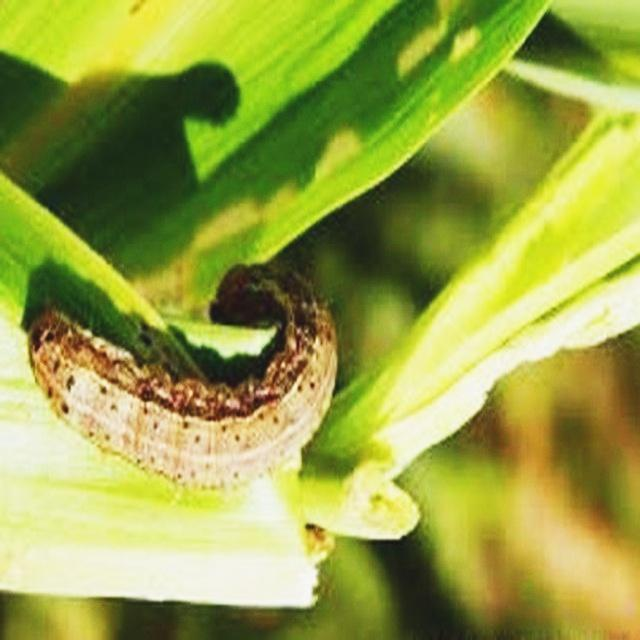gusano_cogollero: (22, 258, 336, 489)
